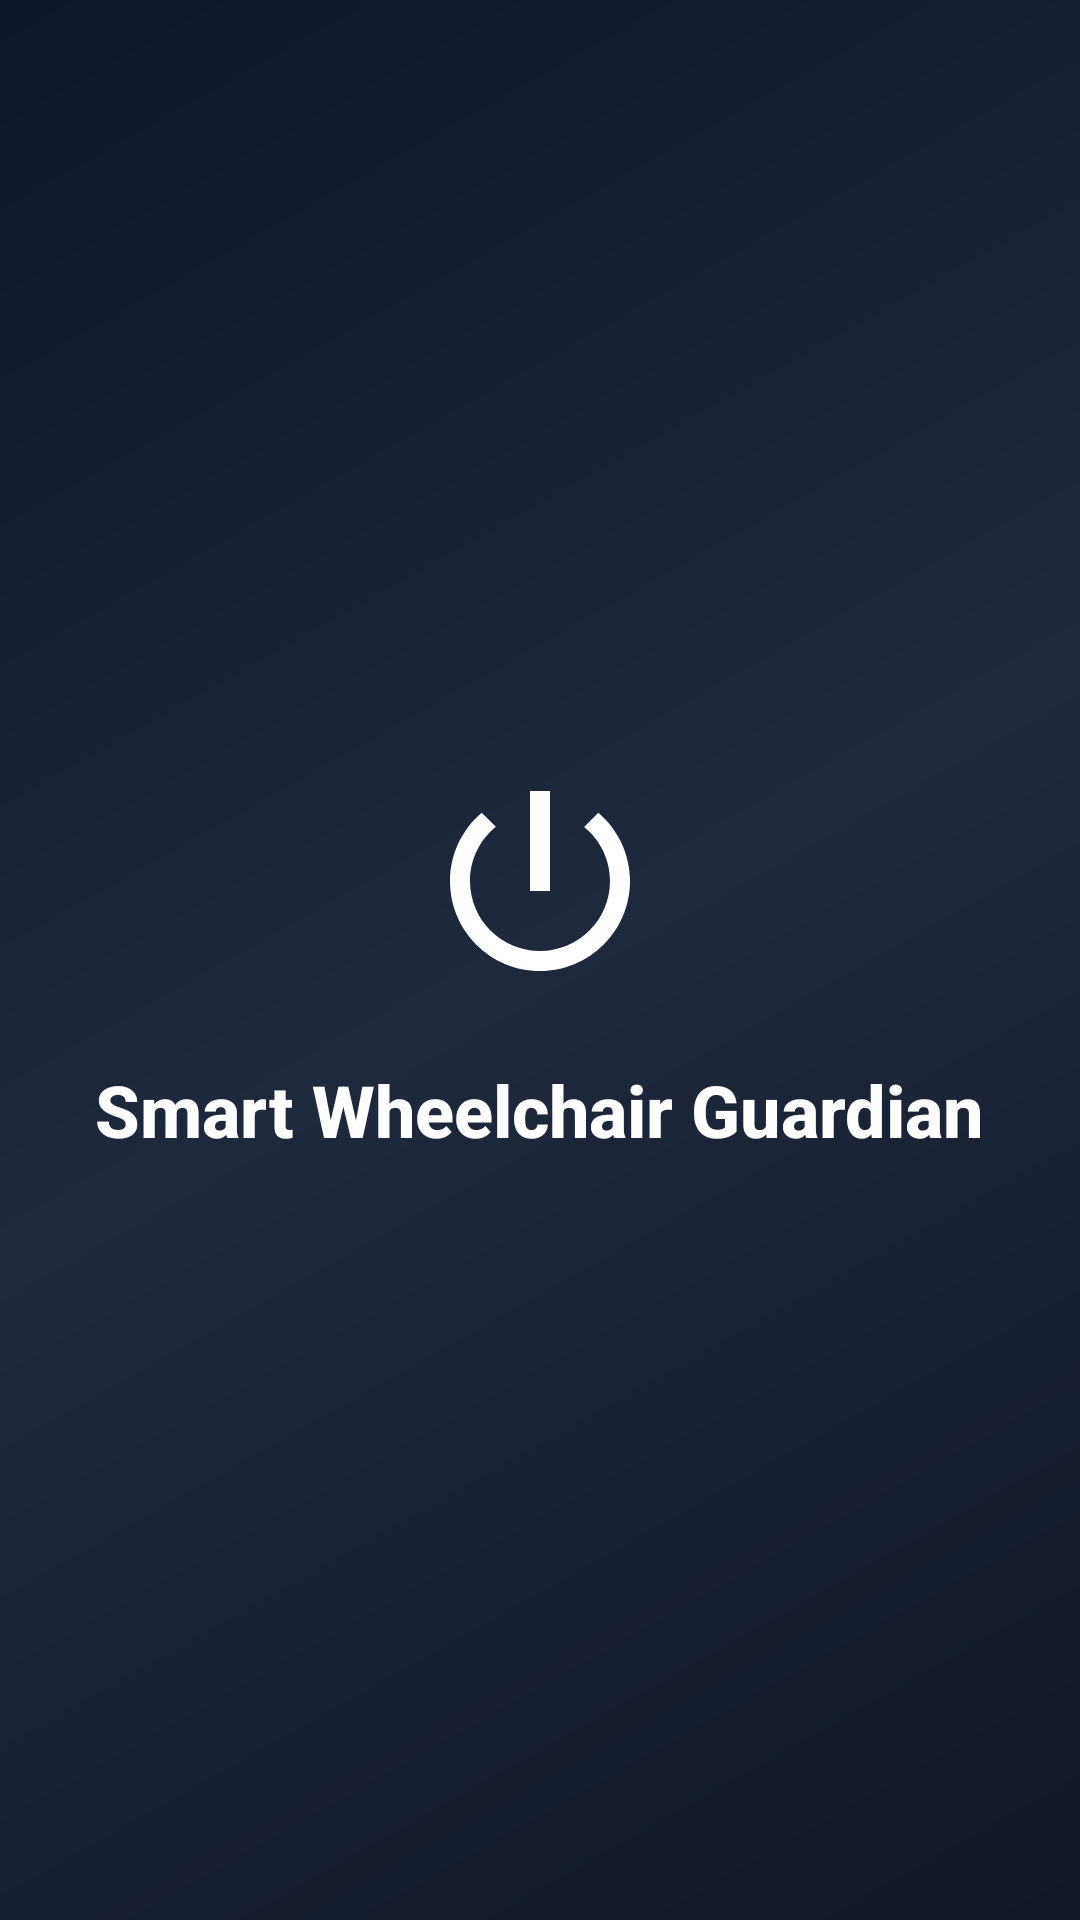

Icons on this 1080×1920 Android screen, each with its box as [x1,y1,x2,y2]:
power: [450,791,630,971]
